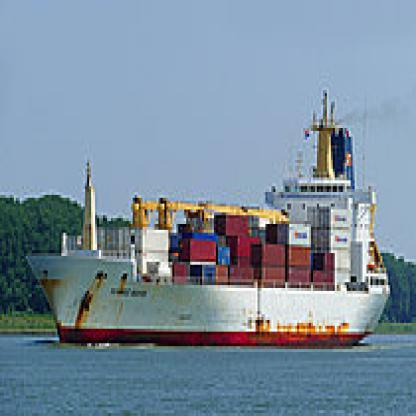Container Ship: (24, 88, 391, 347)
